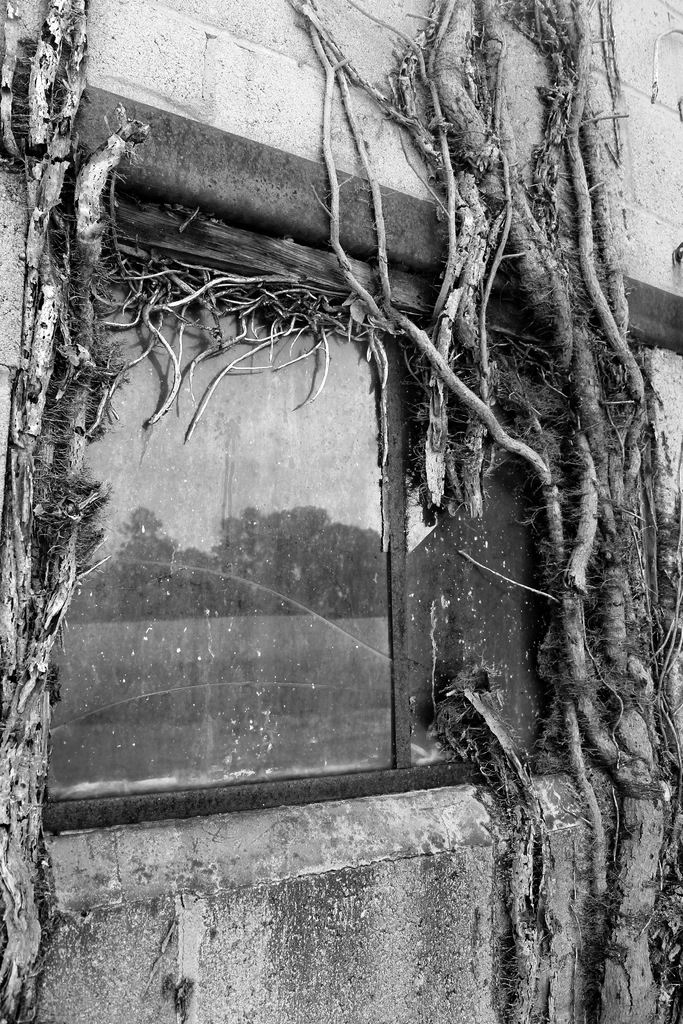Window: (51, 178, 548, 813)
